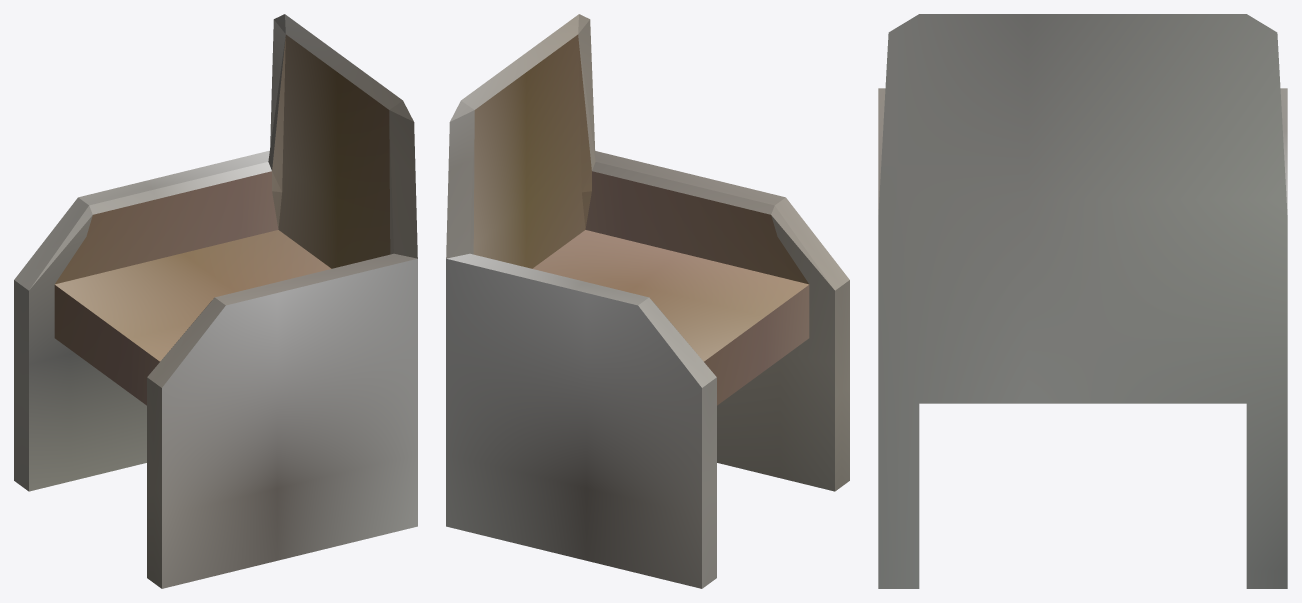
The model's file is generic chair and couch.fbx.
3 views of the same model, side by side, from view 1: azimuth 30°, elevation 25°; view 2: azimuth 150°, elevation 25°; view 3: azimuth 270°, elevation 25° (orthographic). The views are drawn at different scales.
Visible parts, largest first — view 1: cuboid; view 2: cuboid; view 3: cuboid.
Boxes of the visible parts, x1,y1,x2,y2 form: cuboid: (14,14,417,588); cuboid: (446,14,849,588); cuboid: (878,14,1287,588).
Bounding box in the file's own units: 100 × 155 × 100.
Materials: 2 (2 with a texture image).
